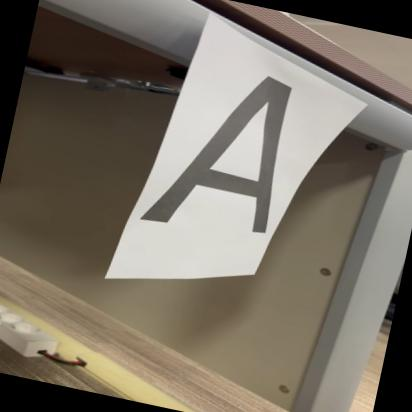seat: (119, 40, 336, 272)
